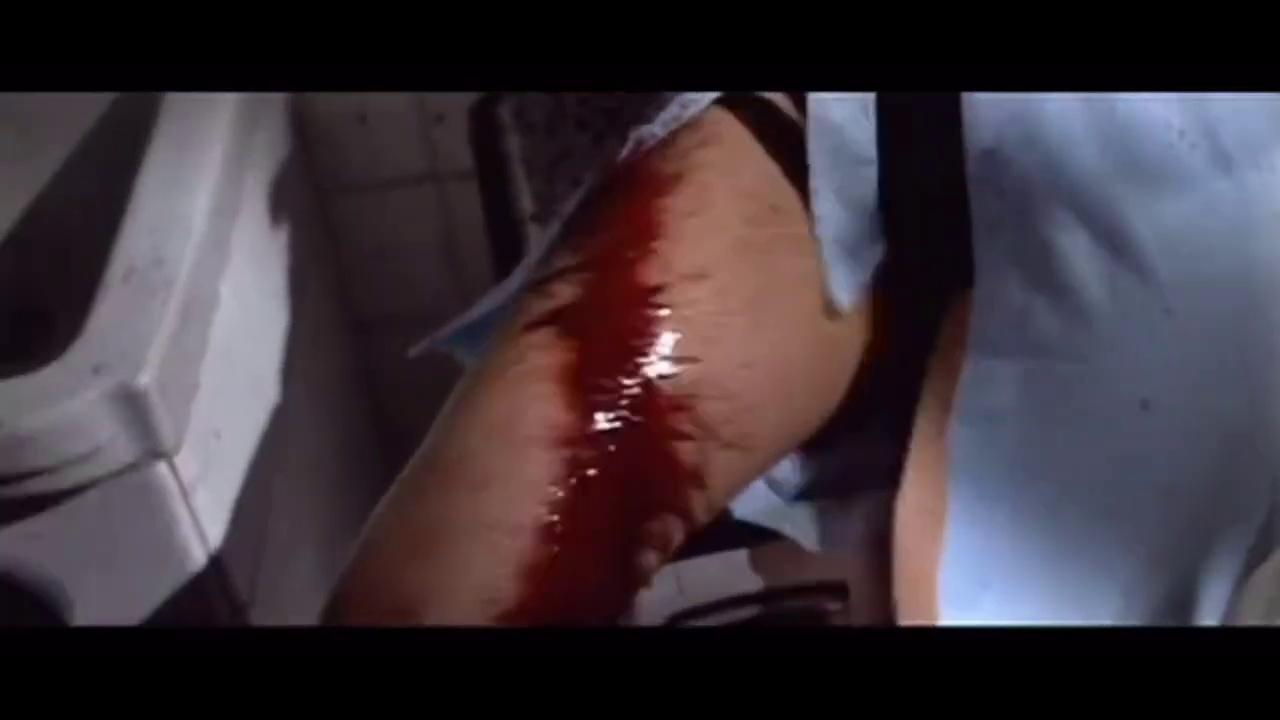Fire: (501, 140, 693, 624)
